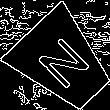N_SE: (31, 31, 95, 95)
